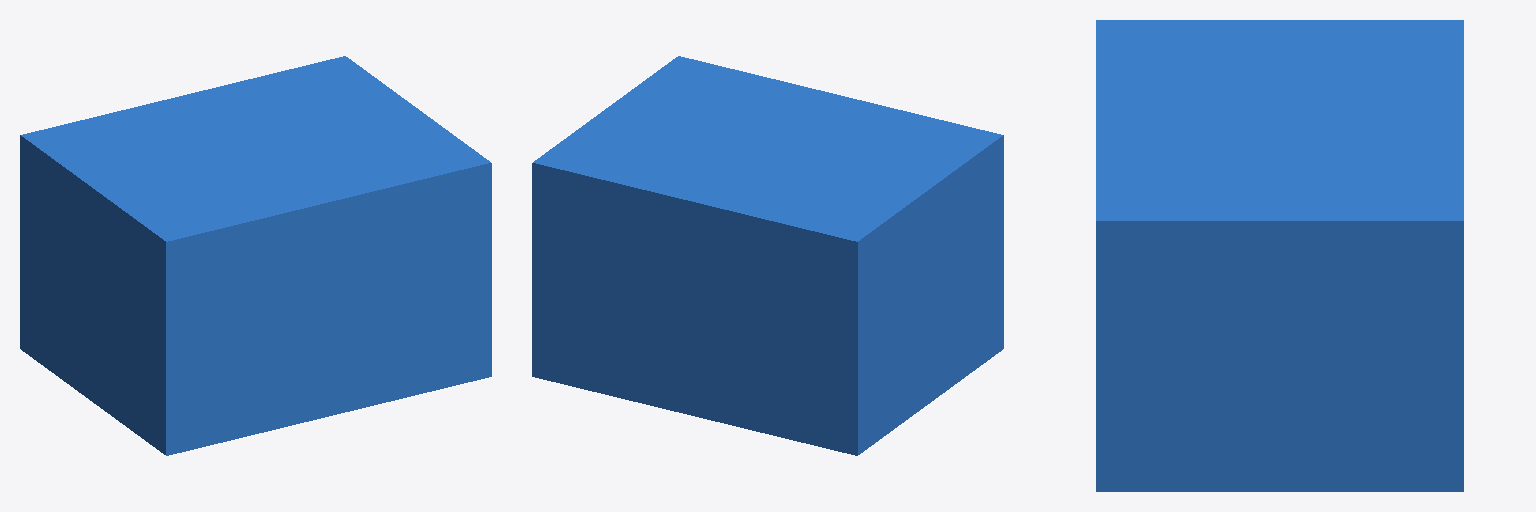
robot.urdf — model.urdf:
<?xml version="0.0" ?>
<robot name="model.urdf">

	<material name="blue">
		<color rgba="0.27 0.56 0.89 1"/>
	</material>

	<link name="baseLink">
		<inertial>
			<mass value="0.232"/>
			<inertia  ixx="0.00032778" ixy="0.00"  ixz="0.00" iyy="0.00046698" iyz="0.00" izz="0.0005655" />
		</inertial>
		<visual>
			<origin xyz="0 0 0" rpy="0 0 0"/>
				<geometry>
					<box size="0.135 0.105 0.085"/>
				</geometry>
			<material name="blue"/>
		</visual>
		<collision>
			<origin xyz="0 0 0" rpy="0 0 0"/>
				<geometry>
					<box size="0.135 0.105 0.085"/>
				</geometry>
		</collision>
	</link>
</robot>

--- Render facts (derived) ---
The picture shows the robot from 3 angles, left to right: view 1: azimuth 30°, elevation 25°; view 2: azimuth 150°, elevation 25°; view 3: azimuth 270°, elevation 25°; orthographic projection.
Model model.urdf with 1 links and 0 joints (none), rooted at baseLink, posed all joints at 0.
Visible links, largest first — view 1: baseLink; view 2: baseLink; view 3: baseLink.
Link boxes in pixels (<box>): baseLink: <box>20,56,491,455</box>; baseLink: <box>532,56,1003,455</box>; baseLink: <box>1096,20,1463,491</box>.
Bounding box of the posed robot: 0.135 × 0.105 × 0.085 m (x, y, z).
Geometry: primitives only (box / cylinder / sphere), no mesh files.